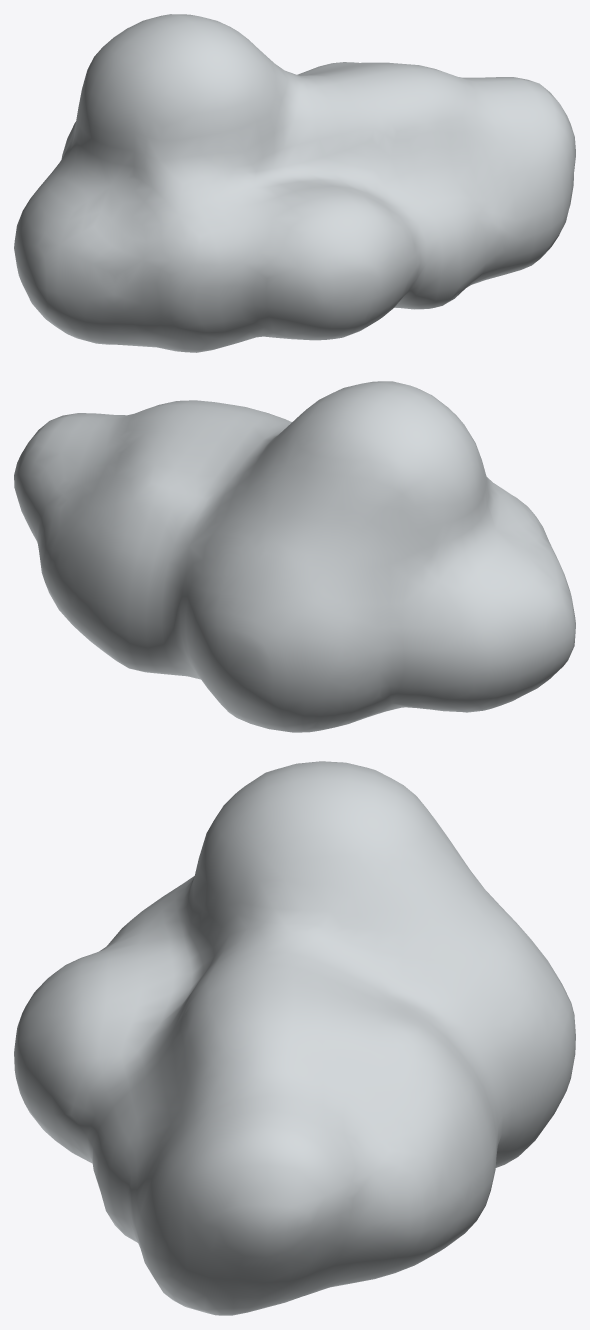
File: Cloud B.fbx
3 views of the same model, one above another, from view 1: azimuth 30°, elevation 25°; view 2: azimuth 150°, elevation 25°; view 3: azimuth 270°, elevation 25° (orthographic). The views are drawn at different scales.
Parts seen in each view (by area): view 1: Cloud B; view 2: Cloud B; view 3: Cloud B.
Part boxes in pixels (x1=…): Cloud B: x1=14, y1=14, x2=575, y2=352; Cloud B: x1=14, y1=381, x2=575, y2=732; Cloud B: x1=14, y1=761, x2=575, y2=1315.
Size of the model in its own units: 10.05 by 5.16 by 7.24.
